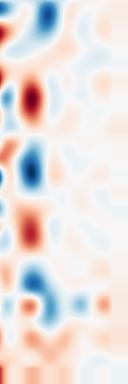filament: (12, 201, 54, 259), (14, 73, 51, 136)
